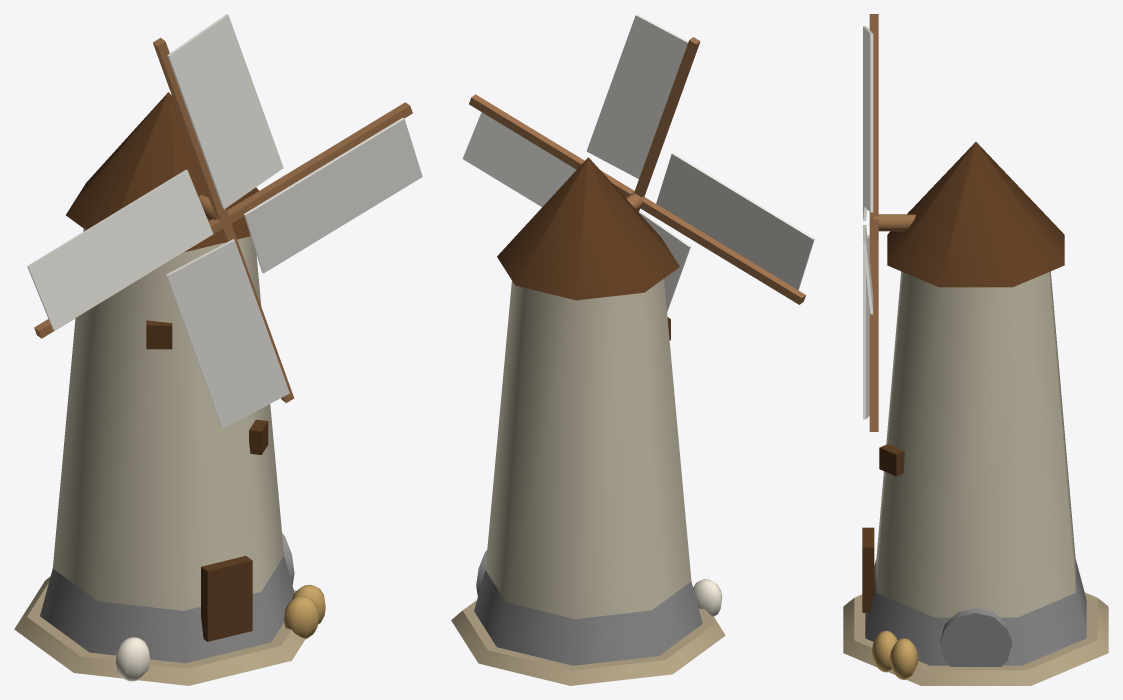
The model's file is windmill.glb.
The picture shows the model from 3 angles, left to right: view 1: azimuth 30°, elevation 25°; view 2: azimuth 150°, elevation 25°; view 3: azimuth 270°, elevation 25°; orthographic projection. The views are drawn at different scales.
Parts seen in each view (by area): view 1: TowerBody, object 14, object 16, object 12, object 10, StoneBase, RoofCap, Foundation, Door, object 9, object 11, FlourSack1 (+4 smaller); view 2: TowerBody, RoofCap, StoneBase, object 14, object 12, Foundation, object 10, object 13, object 11, object 9, object 16, FlourSack1; view 3: TowerBody, RoofCap, StoneBase, Foundation, Millstone, object 12, object 15, object 11, object 16, Door, GrainSack2, GrainSack1 (+3 smaller).
Part boxes in pixels (box(x1,y1,x2,y2)): TowerBody: box(52, 229, 283, 610); object 14: box(27, 169, 213, 330); object 16: box(166, 239, 289, 428); object 12: box(167, 14, 283, 209); object 10: box(244, 117, 422, 273); StoneBase: box(40, 556, 294, 663); RoofCap: box(66, 92, 258, 252); Foundation: box(14, 576, 305, 685); Door: box(201, 556, 252, 641); object 9: box(224, 102, 412, 225); object 11: box(153, 37, 228, 224); FlourSack1: box(115, 637, 150, 681); TowerBody: box(485, 279, 691, 618); RoofCap: box(497, 157, 679, 300); StoneBase: box(474, 570, 702, 665); object 14: box(656, 152, 814, 289); object 12: box(586, 14, 688, 178); Foundation: box(451, 600, 725, 685); object 10: box(462, 112, 576, 206); object 13: box(640, 197, 805, 304); object 11: box(634, 37, 700, 197); object 9: box(469, 94, 634, 197); object 16: box(639, 210, 690, 312); FlourSack1: box(693, 579, 722, 616); TowerBody: box(876, 271, 1075, 617); RoofCap: box(887, 142, 1064, 287); StoneBase: box(865, 559, 1086, 665); Foundation: box(843, 592, 1108, 685); Millstone: box(940, 608, 1011, 666); object 12: box(863, 26, 873, 212); object 15: box(869, 248, 878, 431); object 11: box(869, 14, 878, 218); object 16: box(863, 234, 869, 419); Door: box(862, 527, 874, 612); GrainSack2: box(889, 638, 918, 679); GrainSack1: box(872, 630, 897, 672).
Bounding box in the file's own units: 7.02 × 11.07 × 4.43.
